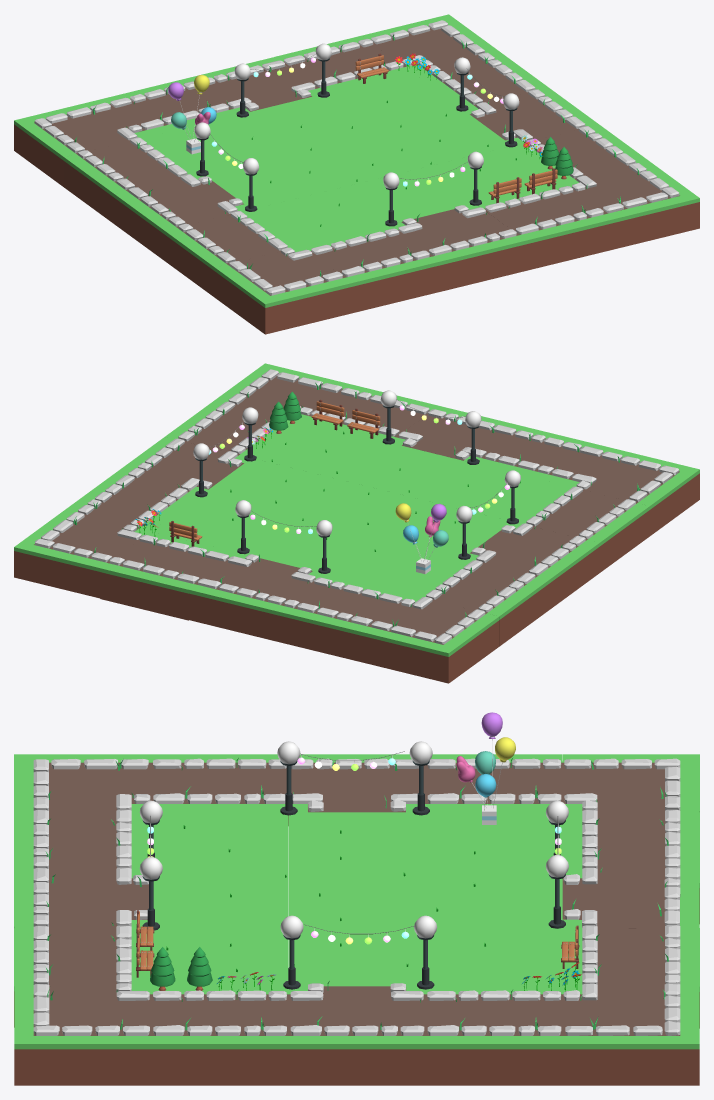
The model's file is MultiDefaultMap2.glb.
The picture shows the model from 3 angles, top to bottom: view 1: azimuth 30°, elevation 25°; view 2: azimuth 150°, elevation 25°; view 3: azimuth 270°, elevation 25°; orthographic projection. The views are drawn at different scales.
Parts seen in each view (by area): view 1: StonePath, Floor_Grass_3.001, Floor_Grass_3, Floor_Grass_5, StonePath_Corner_2.004, StonePath_Corner_2.005, StonePath_Turn_3.003, StonePath_Straight_2.006, StonePath_Corner_2.003, StonePath_Corner_2.002, StonePath_Turn_3.002, StonePath_Straight_4.002; view 2: StonePath, Floor_Grass_5, Floor_Grass_3, Floor_Grass_3.001, StonePath_Corner_2.003, StonePath_Corner_2.002, StonePath_Straight_2.006, StonePath_Corner_2.004, StonePath_Turn_3.002, StonePath_Turn_3.003, StonePath_Corner_2.005, StonePath_Straight_4.002; view 3: StonePath, Floor_Grass_3.001, Floor_Grass_3, Floor_Grass_5, StonePath_Corner_2.002, StonePath_Corner_2.005, StonePath_Turn_3.002, StonePath_Straight_4.002, StonePath_Corner_2.003, StonePath_Corner_2.004, StonePath_Straight_2.006, StonePath_Turn_3.003 (+8 smaller).
Part boxes in pixels (x1,y1,x2,y2): StonePath: (64, 35, 612, 313); Floor_Grass_3.001: (206, 110, 507, 207); Floor_Grass_3: (151, 72, 457, 170); Floor_Grass_5: (255, 147, 562, 245); StonePath_Corner_2.004: (215, 246, 351, 334); StonePath_Corner_2.005: (563, 161, 699, 249); StonePath_Turn_3.003: (391, 205, 525, 291); StonePath_Straight_2.006: (164, 211, 301, 297); StonePath_Corner_2.003: (14, 99, 150, 186); StonePath_Corner_2.002: (362, 14, 498, 72); StonePath_Turn_3.002: (465, 88, 598, 144); StonePath_Straight_4.002: (514, 124, 649, 182); StonePath: (64, 384, 612, 662); Floor_Grass_5: (255, 421, 562, 520); Floor_Grass_3: (151, 496, 460, 594); Floor_Grass_3.001: (206, 459, 508, 557); StonePath_Corner_2.003: (362, 595, 498, 683); StonePath_Corner_2.002: (14, 510, 150, 598); StonePath_Straight_2.006: (517, 485, 649, 572); StonePath_Corner_2.004: (563, 448, 699, 536); StonePath_Turn_3.002: (115, 437, 246, 493); StonePath_Turn_3.003: (394, 406, 525, 461); StonePath_Corner_2.005: (215, 363, 351, 421); StonePath_Straight_4.002: (165, 400, 301, 456); StonePath: (14, 754, 699, 1085); Floor_Grass_3.001: (288, 812, 425, 986); Floor_Grass_3: (425, 812, 562, 986); Floor_Grass_5: (151, 812, 288, 986); StonePath_Corner_2.002: (562, 983, 699, 1085); StonePath_Corner_2.005: (14, 983, 151, 1085); StonePath_Turn_3.002: (288, 981, 425, 1085); StonePath_Straight_4.002: (151, 986, 288, 1085); StonePath_Corner_2.003: (562, 754, 699, 812); StonePath_Corner_2.004: (14, 754, 151, 812); StonePath_Straight_2.006: (151, 754, 286, 812); StonePath_Turn_3.003: (14, 867, 148, 928).
Size of the model in its own units: 27.08 by 6.12 by 27.09.
90 materials, 25 textured.
